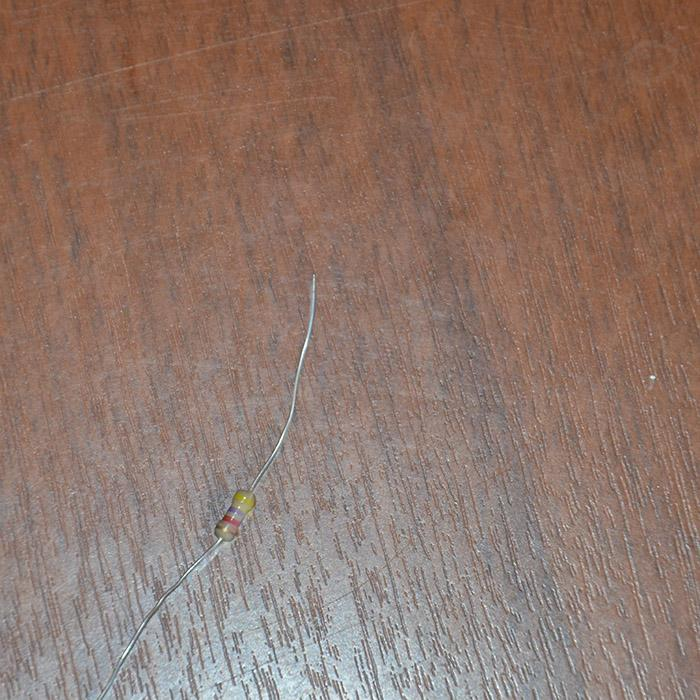resistor: (215, 489, 256, 542)
